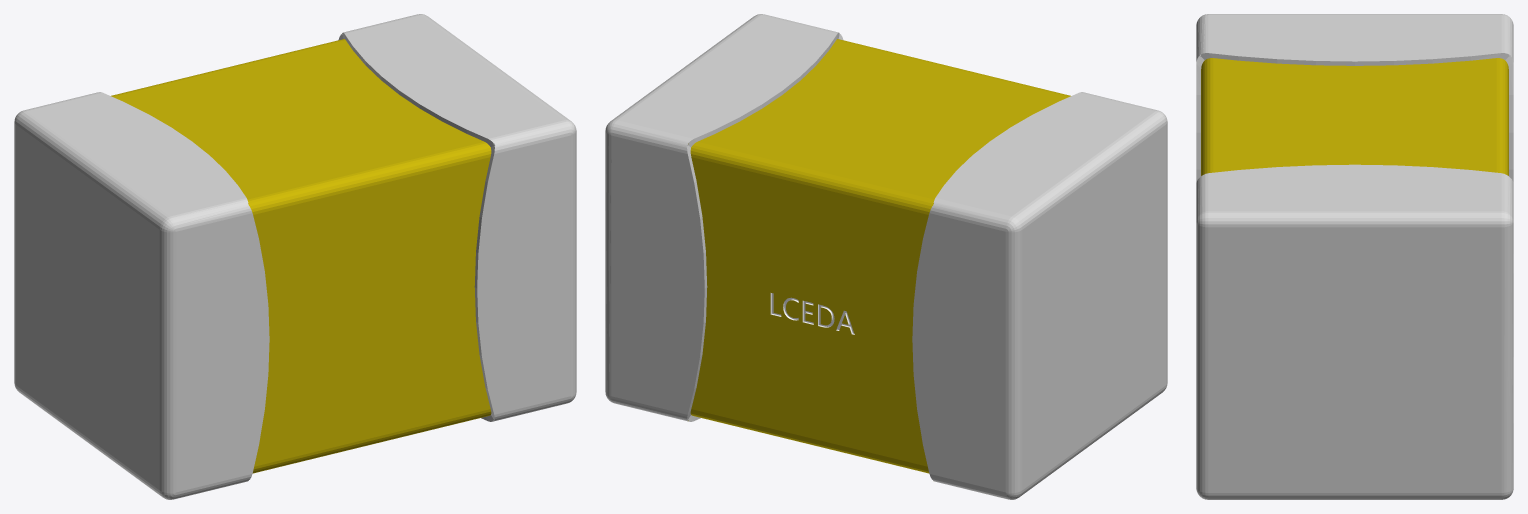
The model's file is FrozenR6-C8.glb.
The picture shows the model from 3 angles, left to right: view 1: azimuth 30°, elevation 25°; view 2: azimuth 150°, elevation 25°; view 3: azimuth 270°, elevation 25°; orthographic projection.
Visible parts, largest first — view 1: C8_d34ce1, C8_22b962; view 2: C8_d34ce1, C8_22b962, C8_aadbc2; view 3: C8_d34ce1, C8_22b962.
Part boxes in pixels (x1=…): C8_d34ce1: x1=14, y1=14, x2=576, y2=499; C8_22b962: x1=111, y1=39, x2=491, y2=473; C8_d34ce1: x1=605, y1=14, x2=1167, y2=499; C8_22b962: x1=688, y1=39, x2=1070, y2=473; C8_aadbc2: x1=770, y1=293, x2=854, y2=334; C8_d34ce1: x1=1196, y1=14, x2=1513, y2=499; C8_22b962: x1=1201, y1=58, x2=1508, y2=175.
Bounding box in the file's own units: 2 × 1.3 × 1.3.
